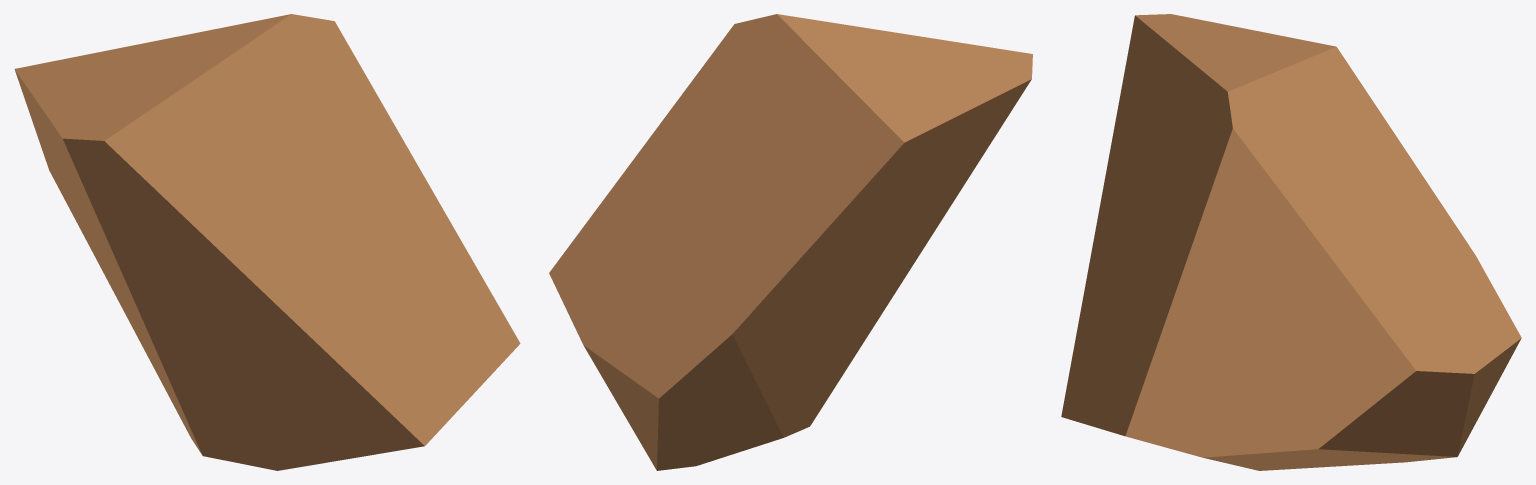
File: asteroid_3_2.glb
3 views of the same model, side by side, from view 1: azimuth 30°, elevation 25°; view 2: azimuth 150°, elevation 25°; view 3: azimuth 270°, elevation 25° (orthographic). The views are drawn at different scales.
Visible parts, largest first — view 1: Asteriod_cell_3_2; view 2: Asteriod_cell_3_2; view 3: Asteriod_cell_3_2.
Boxes of the visible parts, box(x1,y1,x2,y2) form: Asteriod_cell_3_2: box(14, 14, 520, 470); Asteriod_cell_3_2: box(549, 14, 1032, 470); Asteriod_cell_3_2: box(1061, 14, 1521, 470).
Size of the model in its own units: 1.13 by 1.08 by 1.2.
